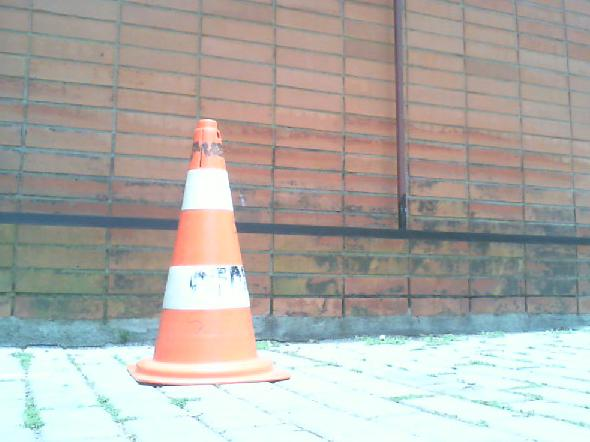0 cone: (126, 118, 290, 384)
